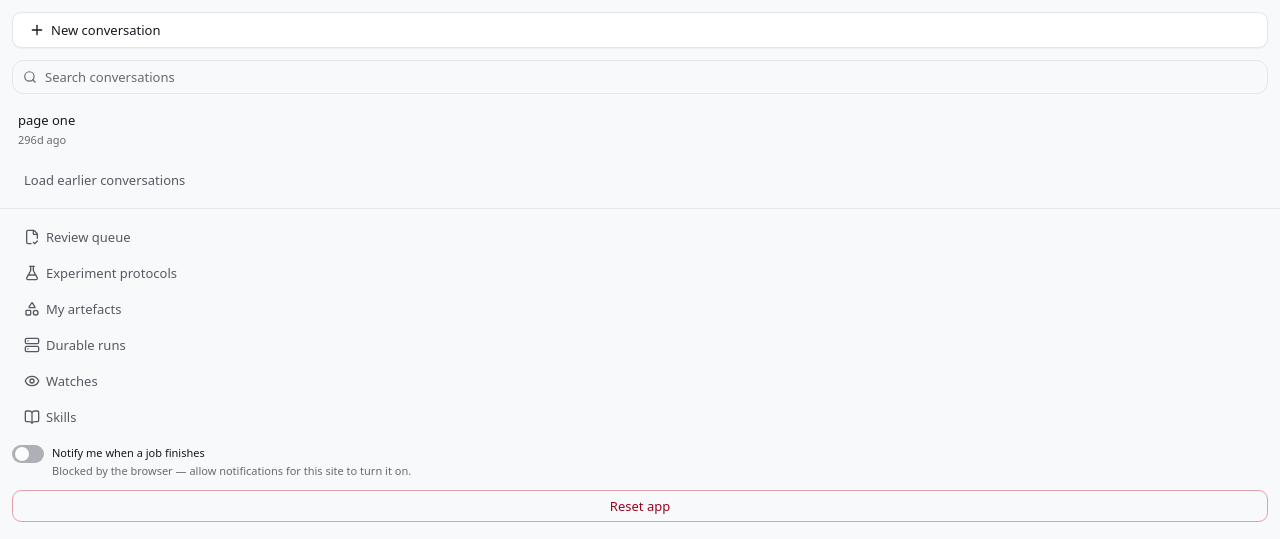
Test: a page the service refuses finally › says so where the control was, instead of vanishing silently
Click the button "Load earlier conversations" at {"x": 105, "y": 180}, box [12, 164, 1268, 196]
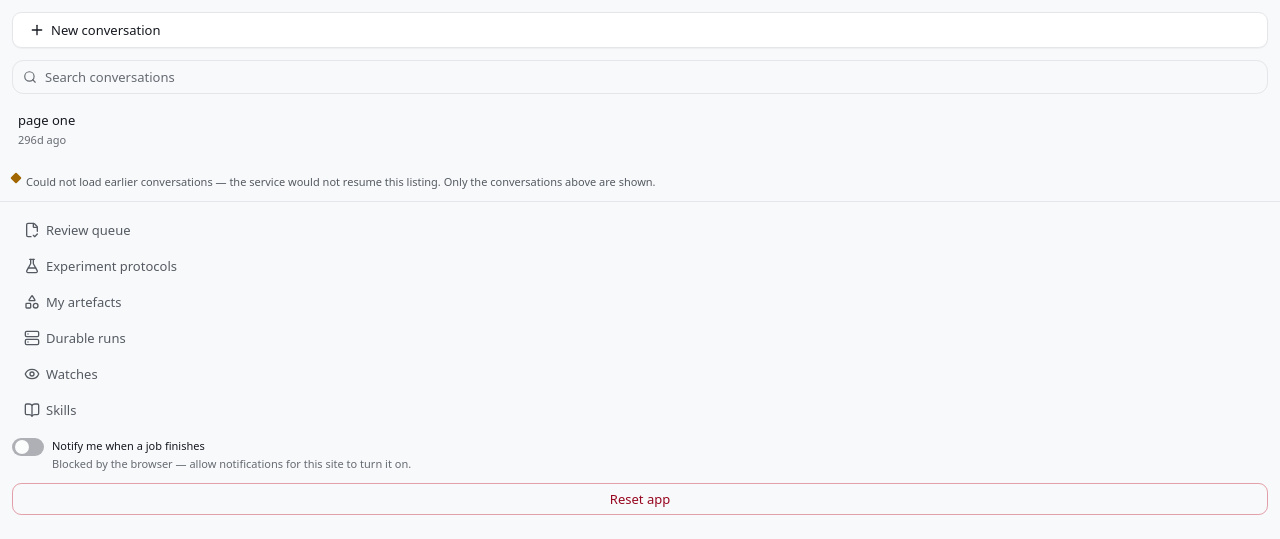
expect the text "page one" is shown: met, box [18, 110, 75, 130]
expect the text "Could not load earlier conversations" is shown: met, box [26, 174, 656, 189]
